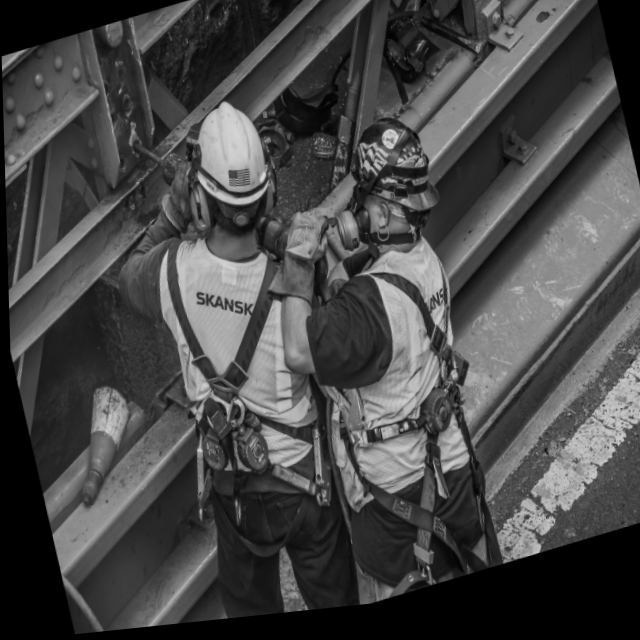safety belt: (154, 253, 329, 522), (330, 260, 500, 488)
